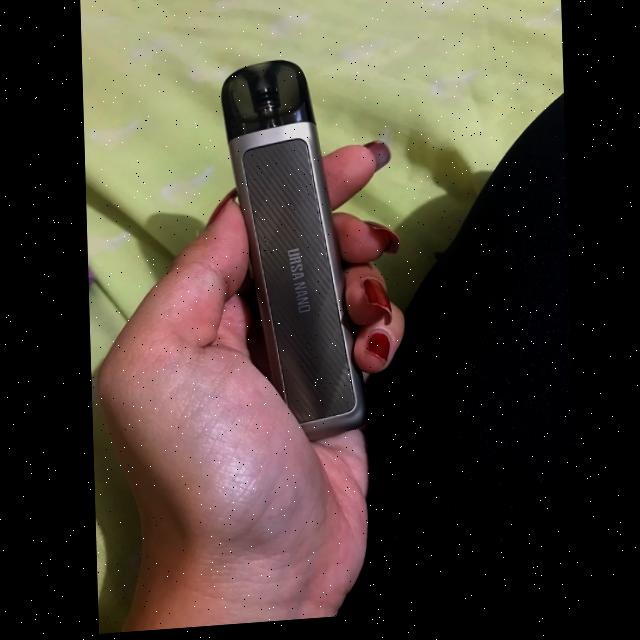vape: (217, 55, 369, 452)
